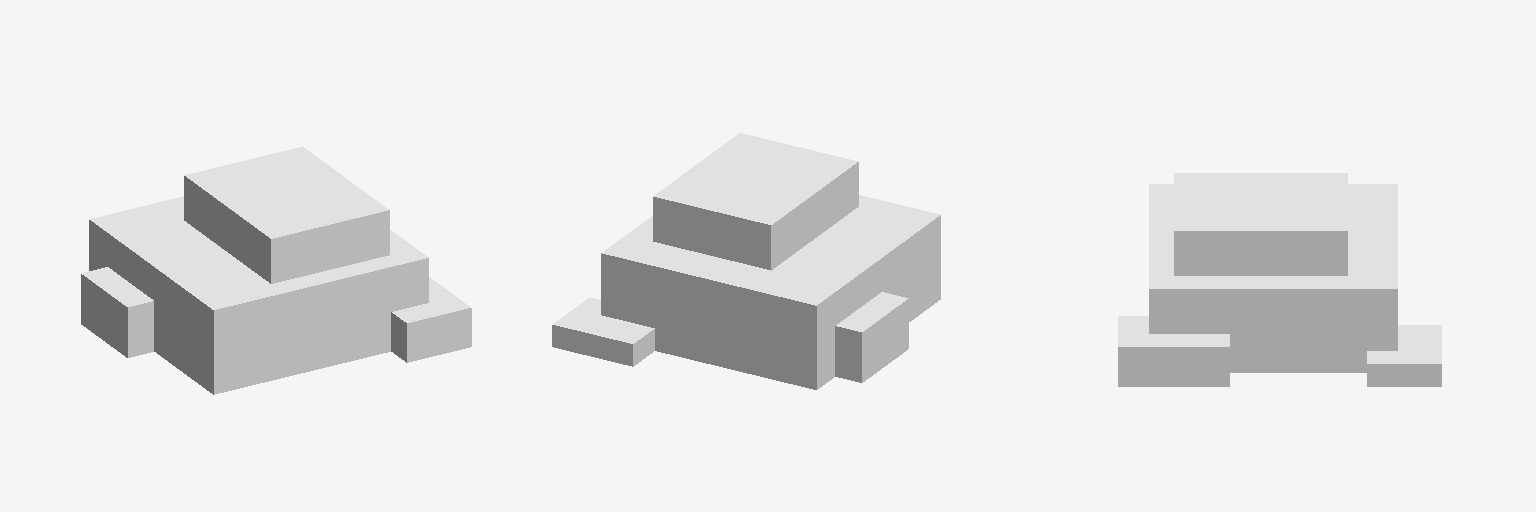
The model's file is Rocas.obj.
The picture shows the model from 3 angles: view 1: azimuth 30°, elevation 25°; view 2: azimuth 150°, elevation 25°; view 3: azimuth 270°, elevation 25°; orthographic projection.
Parts seen in each view (by area): view 1: object 1; view 2: object 1; view 3: object 1.
Part boxes in pixels (left/top/right/bottom): object 1: left=81, top=146, right=471, bottom=394; object 1: left=552, top=133, right=940, bottom=389; object 1: left=1118, top=173, right=1441, bottom=386.
Bounding box in the file's own units: 5 × 2.3 × 5.2.